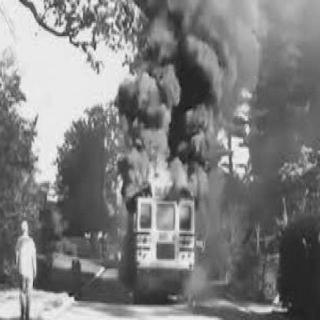Smoke: (108, 0, 320, 194)
